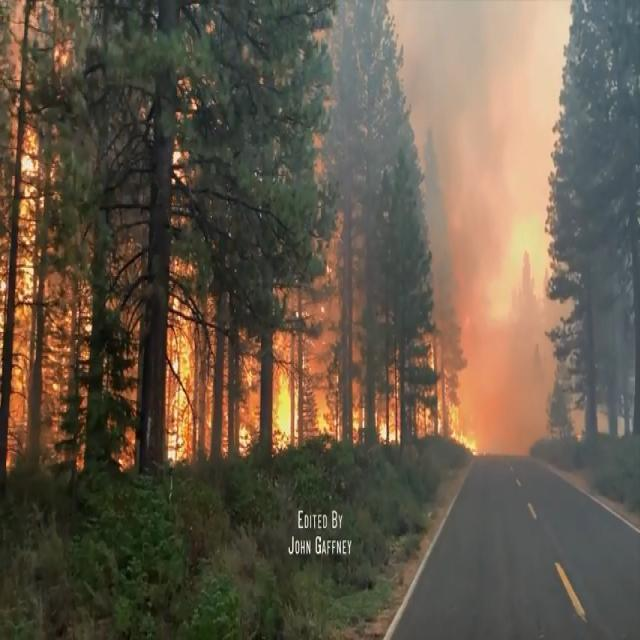Fire: (164, 290, 486, 455)
